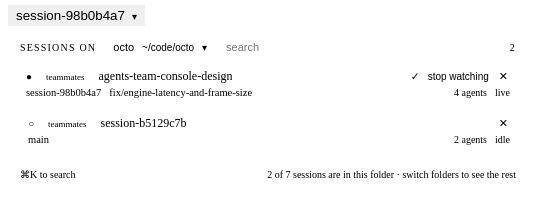
Test: holds the popover open until the snapshot carries the new team
What coordinates should you click on to do the following:
click the option "○ teammates session-b5129c7b ✕ main 2 agents idle"
I would click on:
 (67, 124)
Its box is [16, 108, 520, 153].
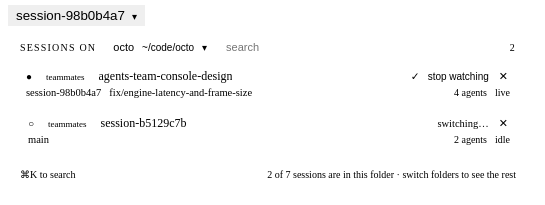
Check: the text with test id "team-mark" reads "switching…", box [437, 118, 489, 129]
